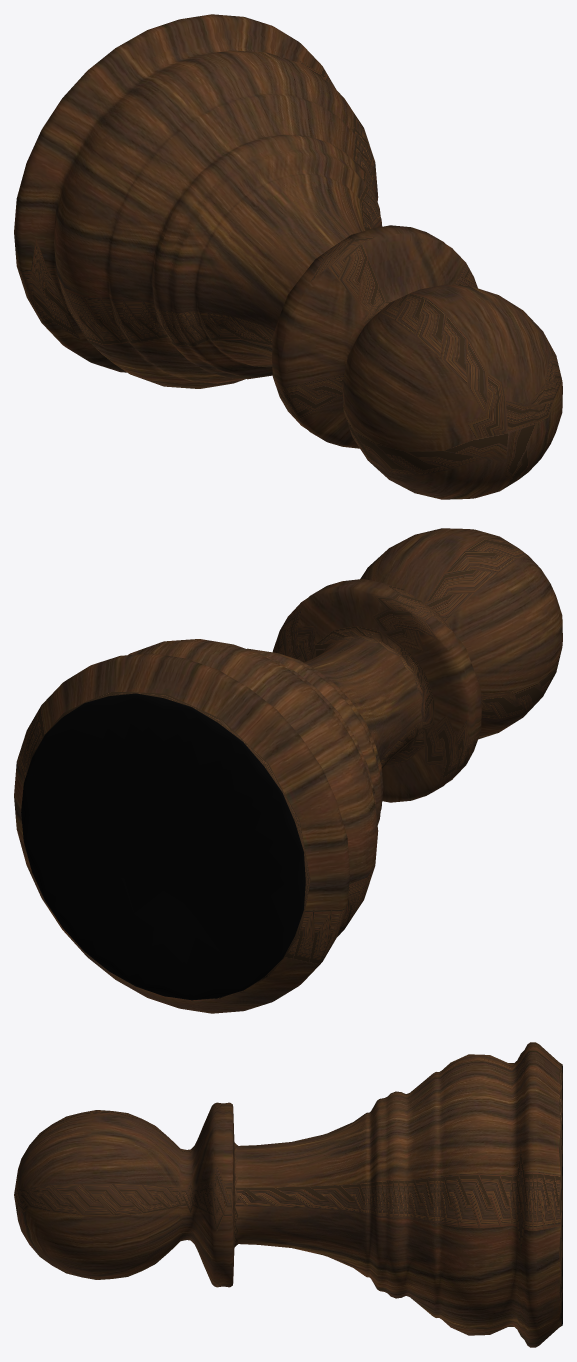
Rendered from []Pedone_Nero_1-8k.obj.
The picture shows the model from 3 angles, top to bottom: view 1: azimuth 30°, elevation 25°; view 2: azimuth 150°, elevation 25°; view 3: azimuth 270°, elevation 25°; orthographic projection. The views are drawn at different scales.
Visible parts, largest first — view 1: 12937_Wooden_Chess_Pawn_Side_B_V2_L3; view 2: 12937_Wooden_Chess_Pawn_Side_B_V2_L3; view 3: 12937_Wooden_Chess_Pawn_Side_B_V2_L3.
Part boxes in pixels (x1,y1,x2,y2): 12937_Wooden_Chess_Pawn_Side_B_V2_L3: (14, 14, 562, 499); 12937_Wooden_Chess_Pawn_Side_B_V2_L3: (14, 528, 562, 1013); 12937_Wooden_Chess_Pawn_Side_B_V2_L3: (14, 1042, 562, 1347).
Bounding box in the file's own units: 4.55 × 4.55 × 8.17.
Materials: 1 (1 with a texture image).
